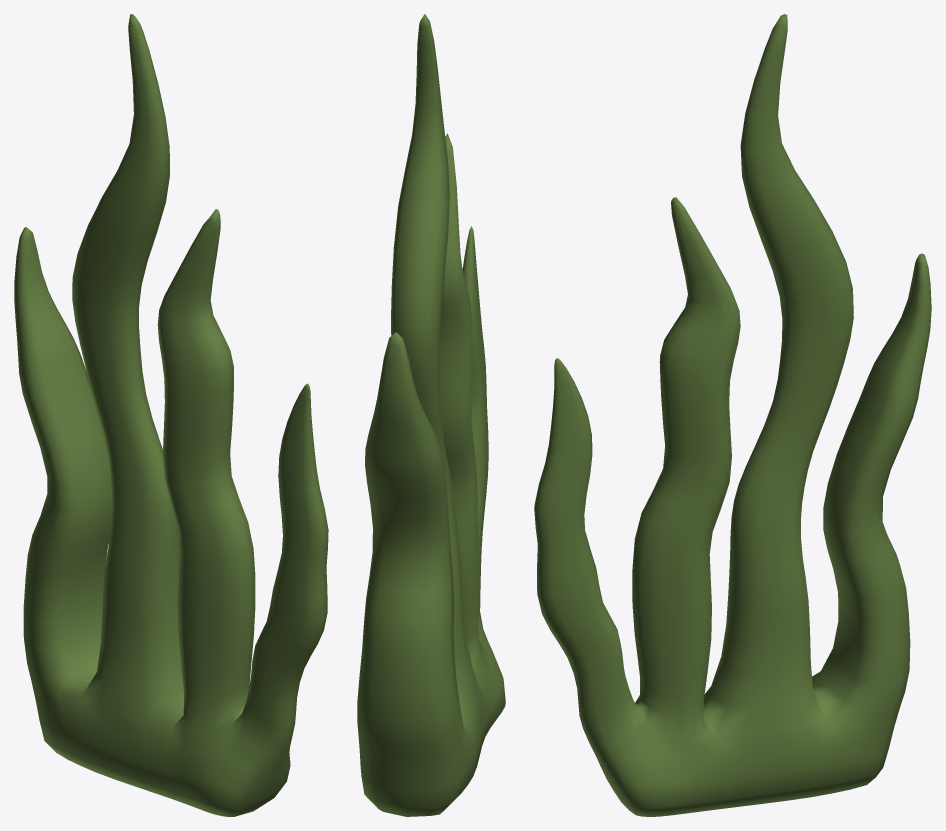
File: rumput laut panjaang.fbx
The picture shows the model from 3 angles, left to right: view 1: azimuth 30°, elevation 25°; view 2: azimuth 150°, elevation 25°; view 3: azimuth 270°, elevation 25°; orthographic projection. The views are drawn at different scales.
Visible parts, largest first — view 1: Cube.063; view 2: Cube.063; view 3: Cube.063.
Part boxes in pixels (<box>): Cube.063: <box>14,14,328,816</box>; Cube.063: <box>357,14,505,816</box>; Cube.063: <box>534,14,931,816</box>.
Size of the model in its own units: 239 by 1159 by 537.
